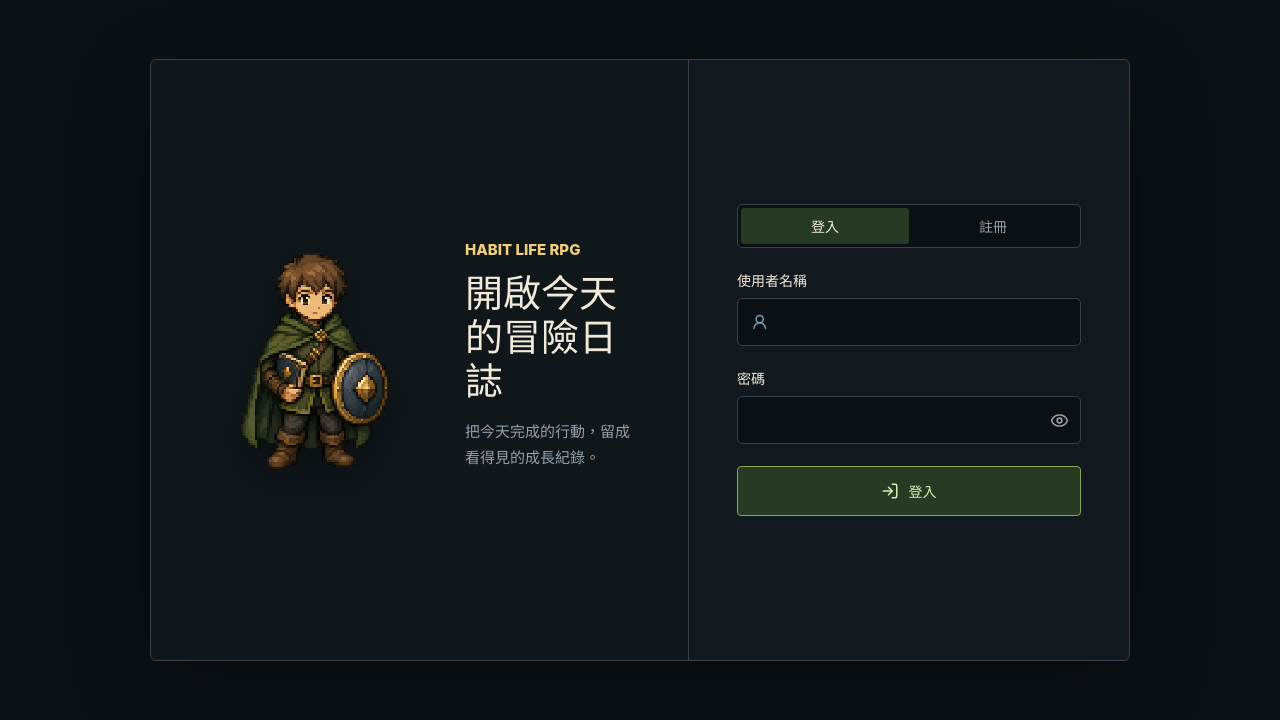
Test: Habit Life RPG reader workflow › registers a reader and opens an empty dashboard
Click the tab "註冊": [993, 226] box [909,208,1077,244]
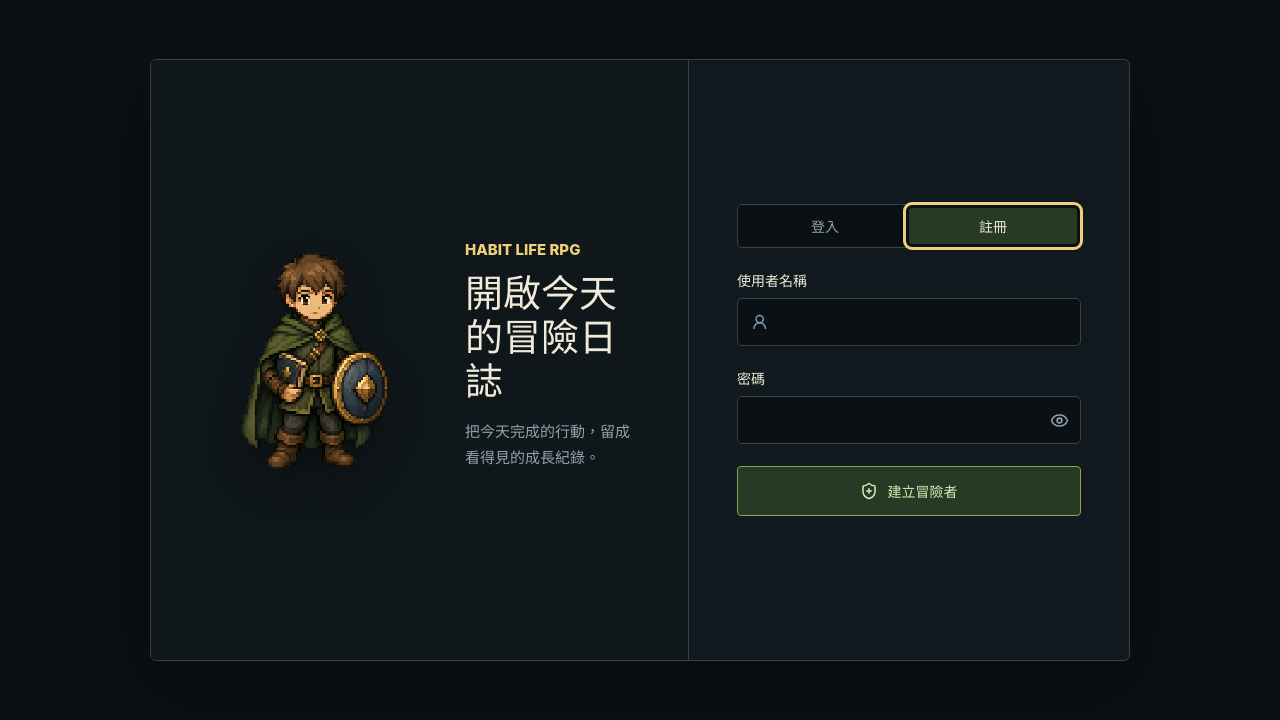
In the field labelled "使用者名稱": [929, 322] box [778,299,1080,345], type "Reader"
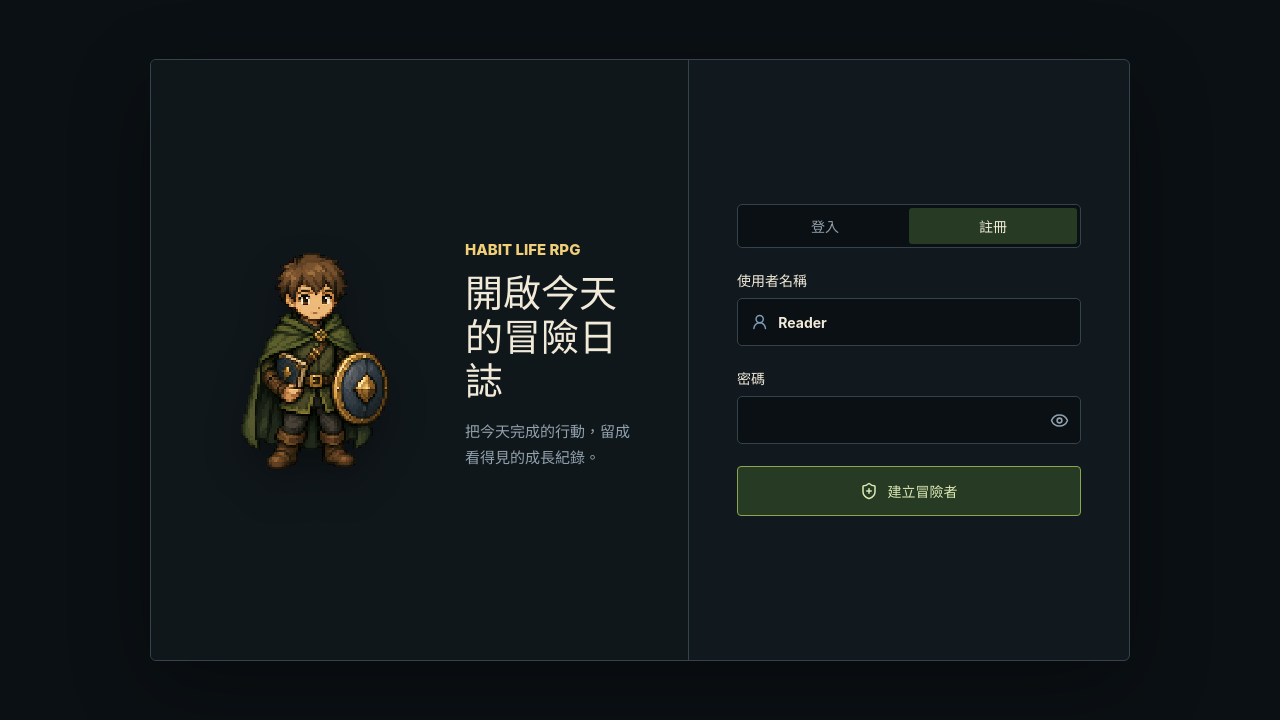
In the password field labelled "密碼": [889, 420] box [751,397,1028,443], type "BookDemo!2026"
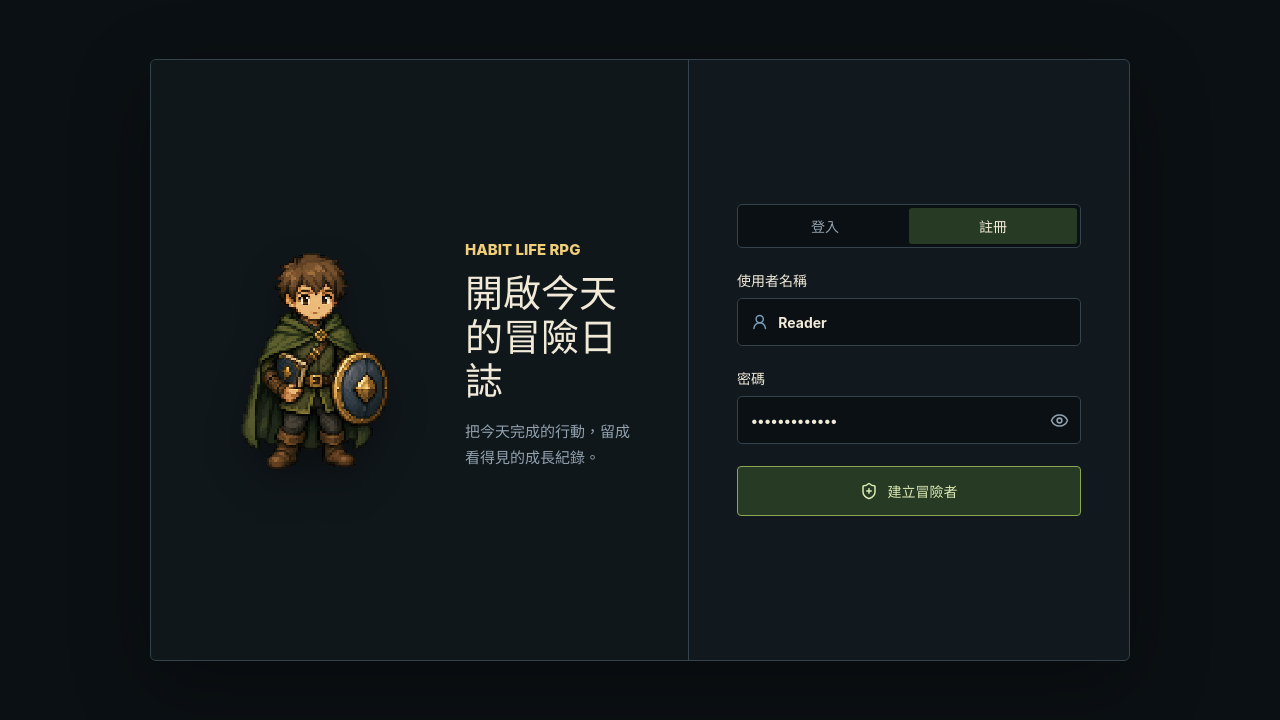
Click the button "建立冒險者": [909, 491] box [737,466,1081,516]
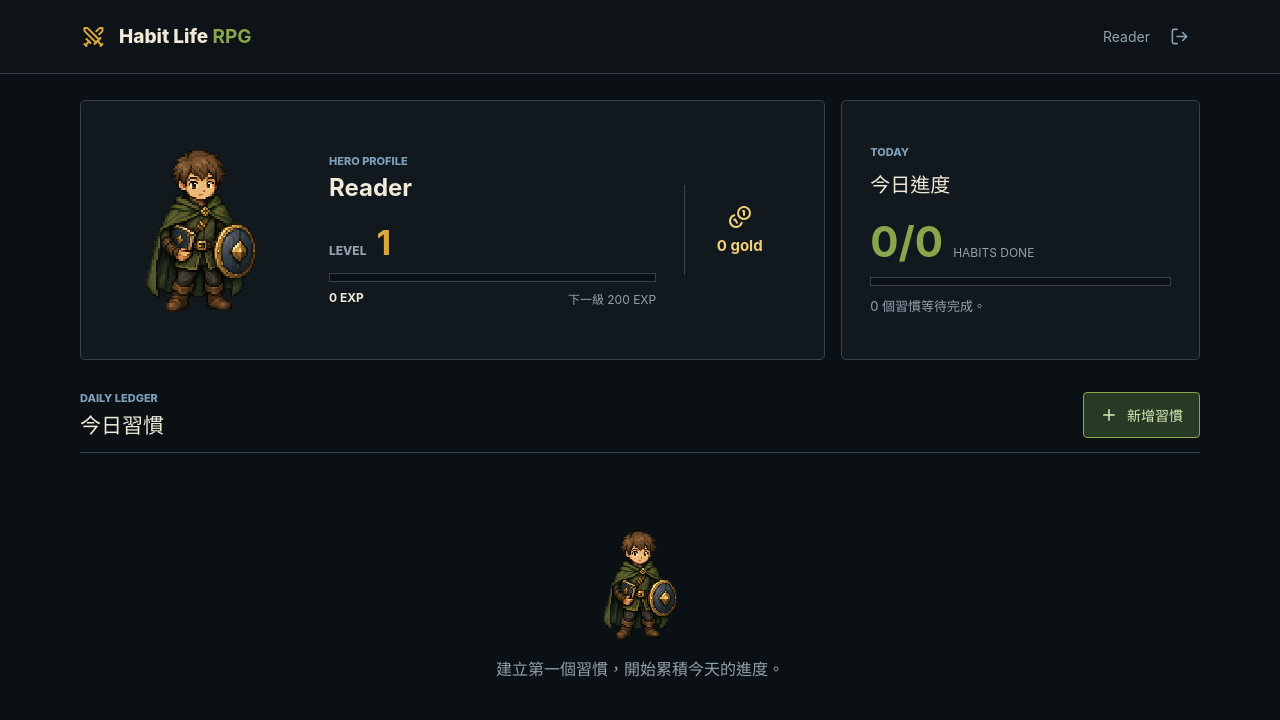
Expected: the heading "今日進度" is shown, [870,173,950,197]
Expected: the text "建立第一個習慣，開始累積今天的進度。" is shown, [496,656,784,680]
